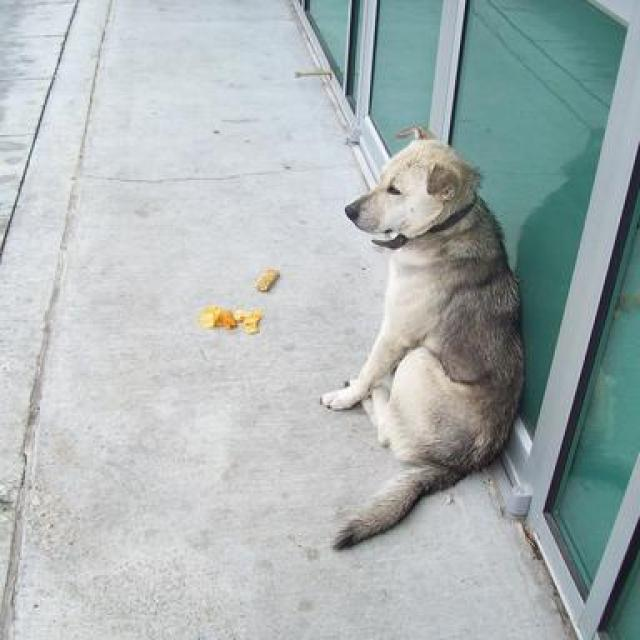adult_dog: (320, 122, 526, 548)
